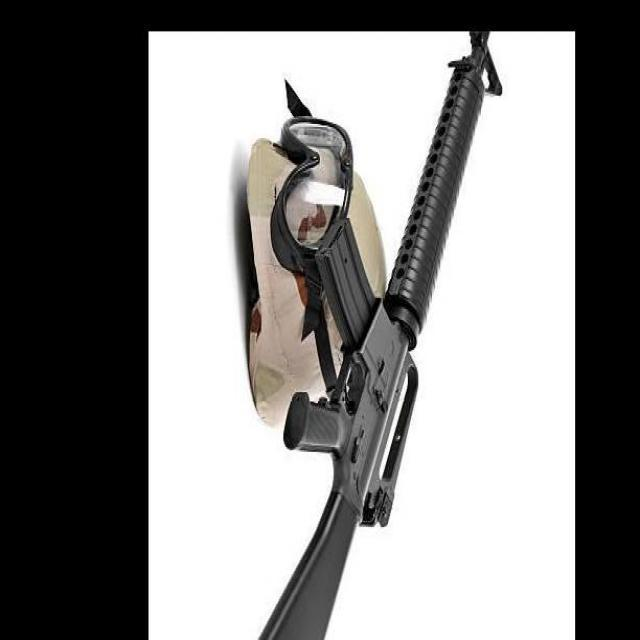weapon: (259, 31, 503, 640)
